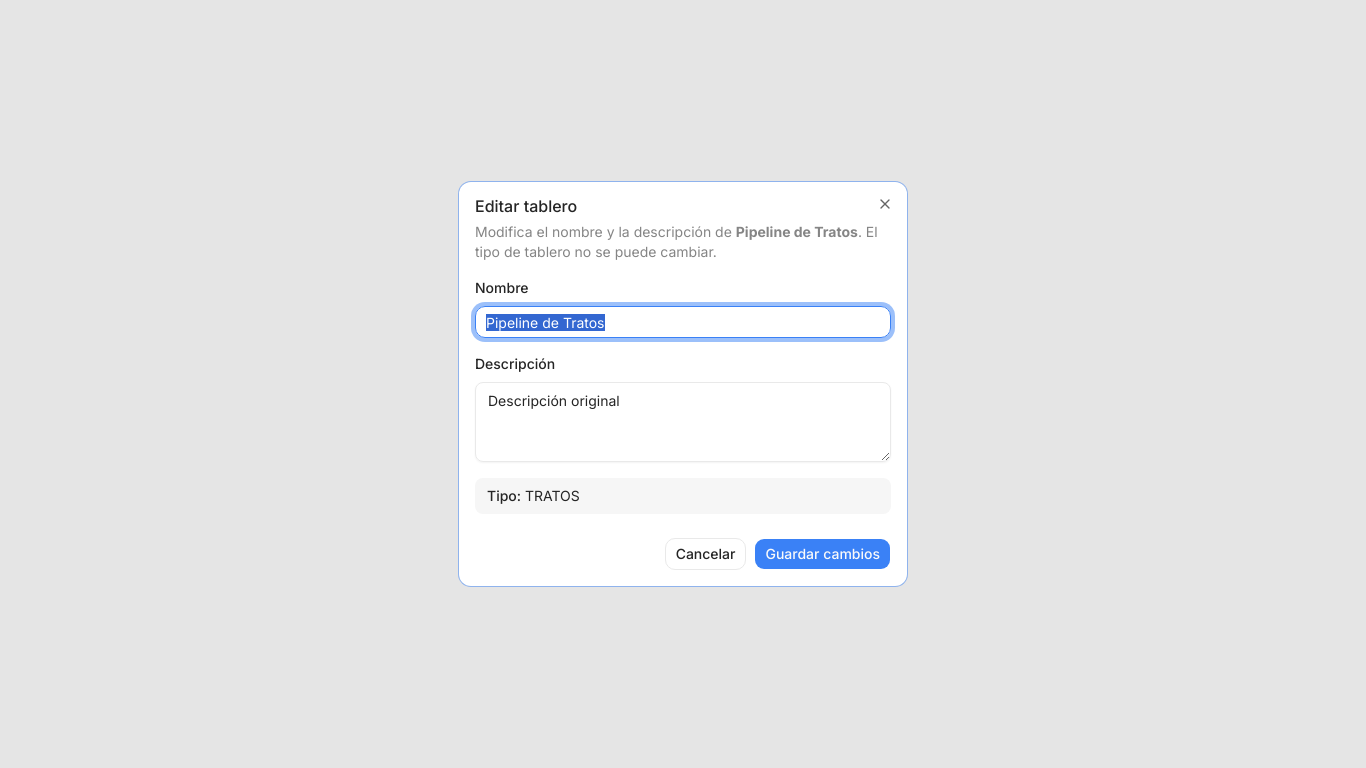
Test case: TableroFormDialog › requires a non-blank description before editing
Clear the text box named "Descripción del tablero" at (683, 422), box [475,382,891,462]
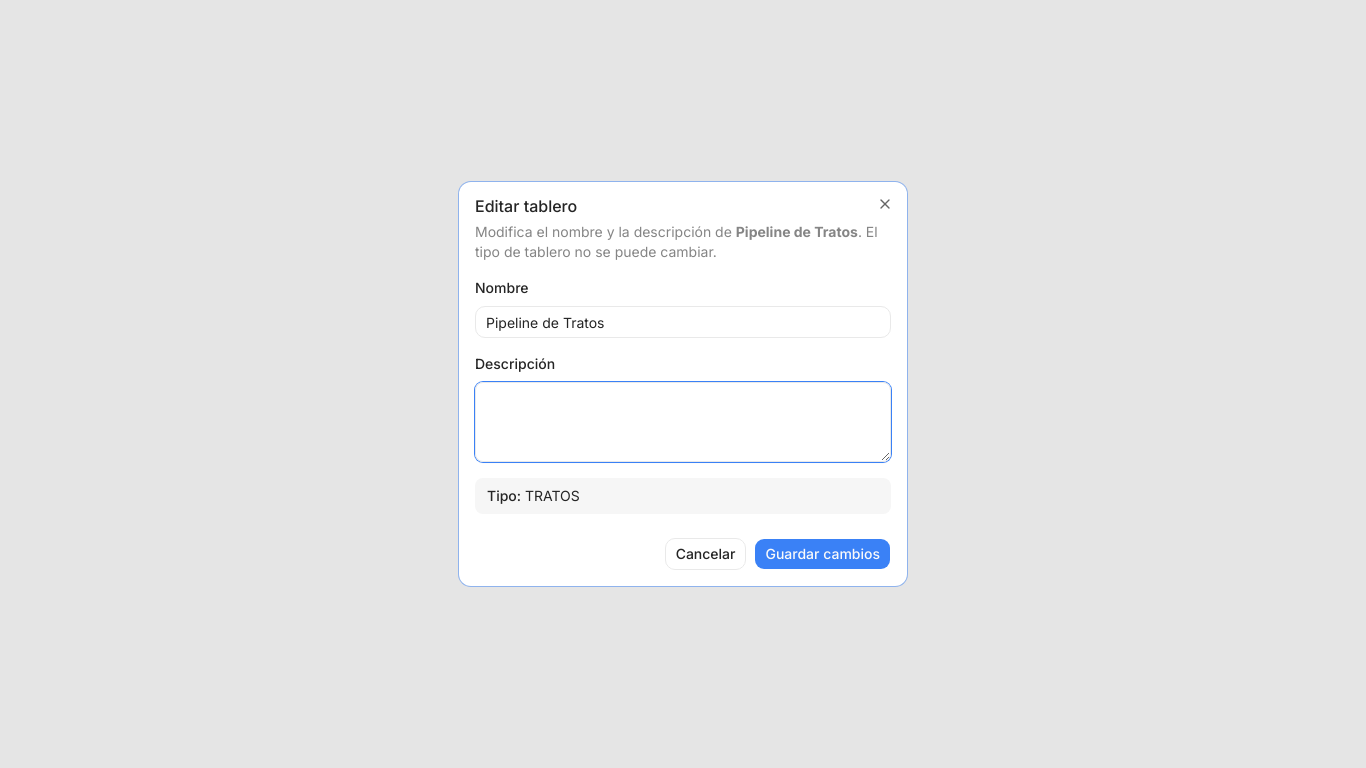
Click the button "Guardar cambios" at (823, 554), box [754,538,891,570]
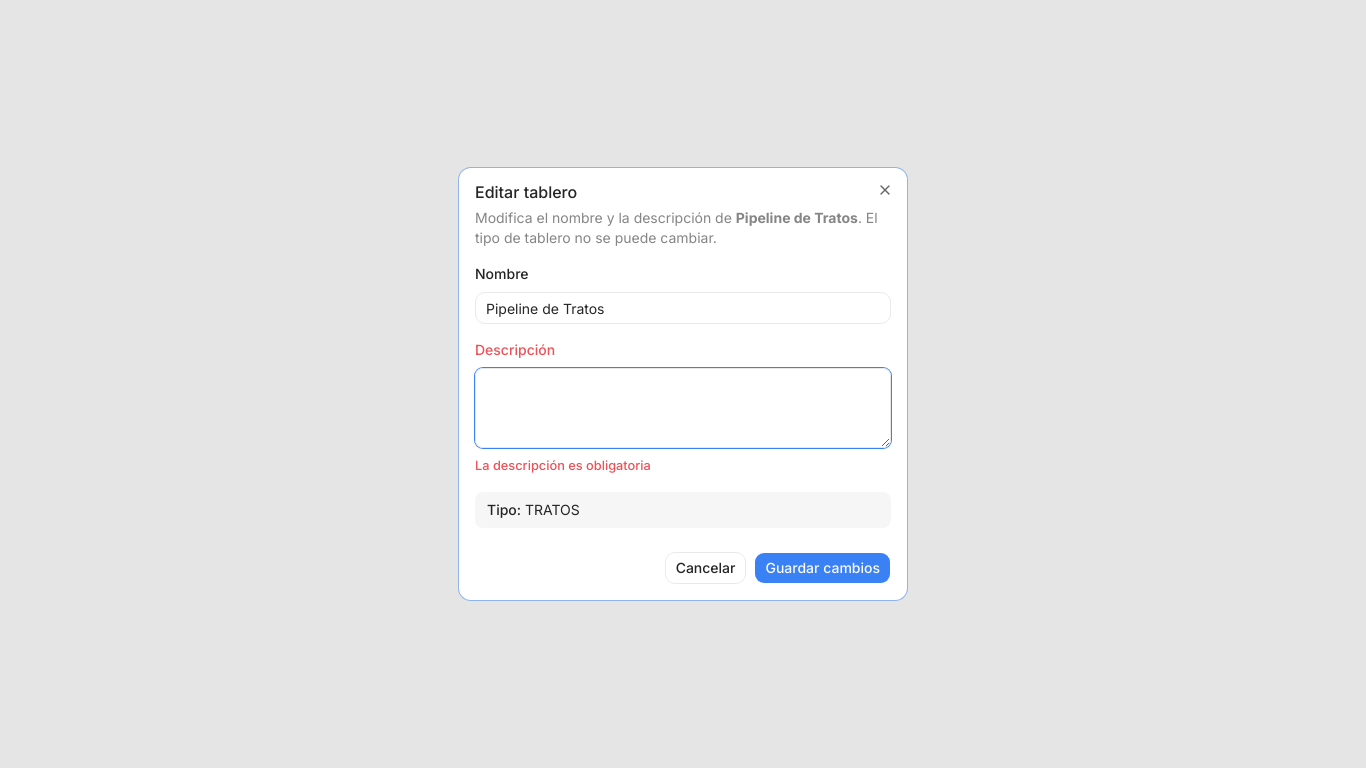
Now the text "La descripción es obligatoria" is shown, box [475,458,651,473]
